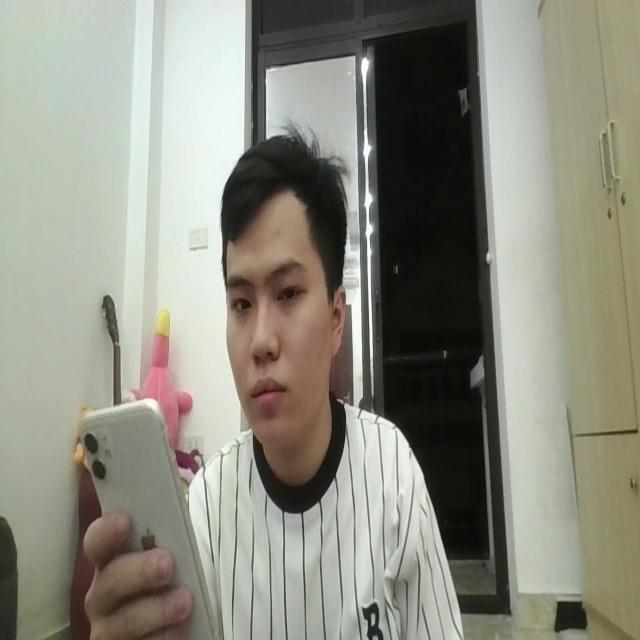phone: (78, 391, 226, 640)
student: (82, 131, 459, 640)
